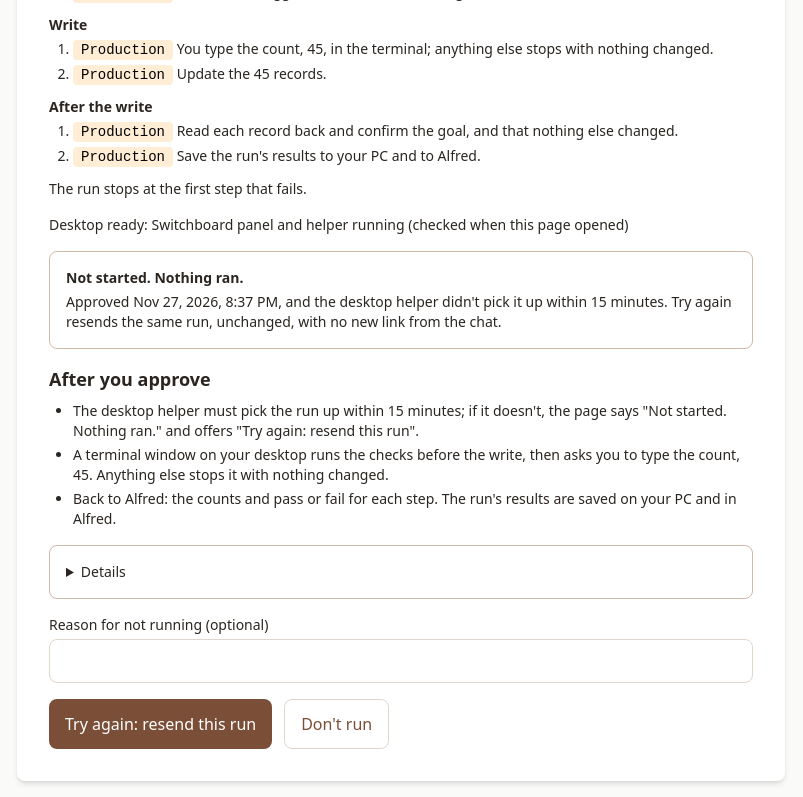
it: the red bar and the Approve button always appear together › not-started-marked, desktop ready, then approved
(page scrolled)
Expected: the text with test id "run-desktop" does not show "Checking", 49,215 -> 628,234
Click the button "Try again: resend this run": (161, 724) 49,699 -> 272,749
(page scrolled)
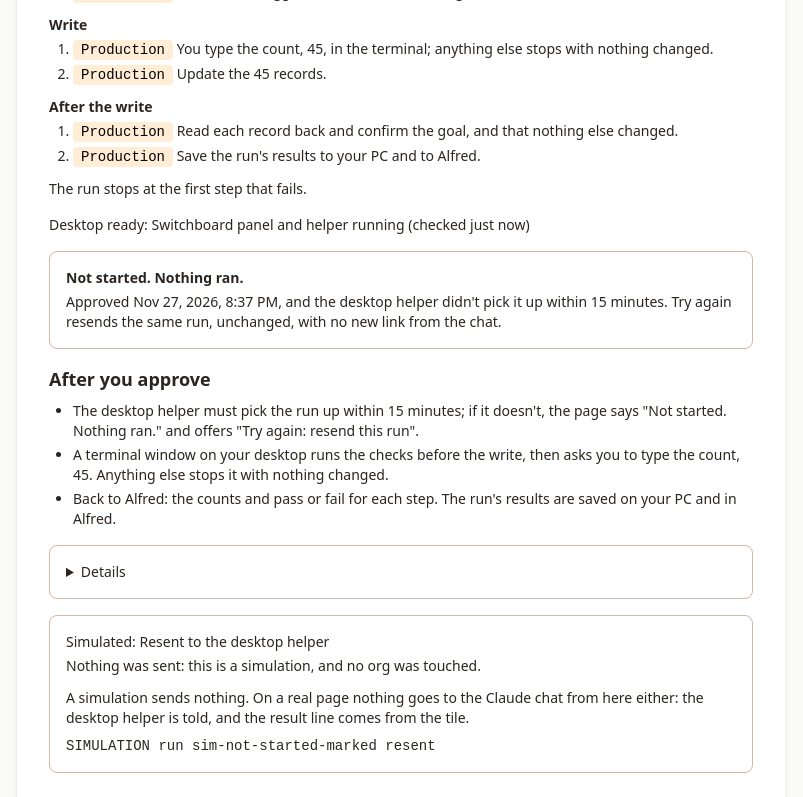
Expected: the element with test id "run-sent" is shown, 49,615 -> 753,773
